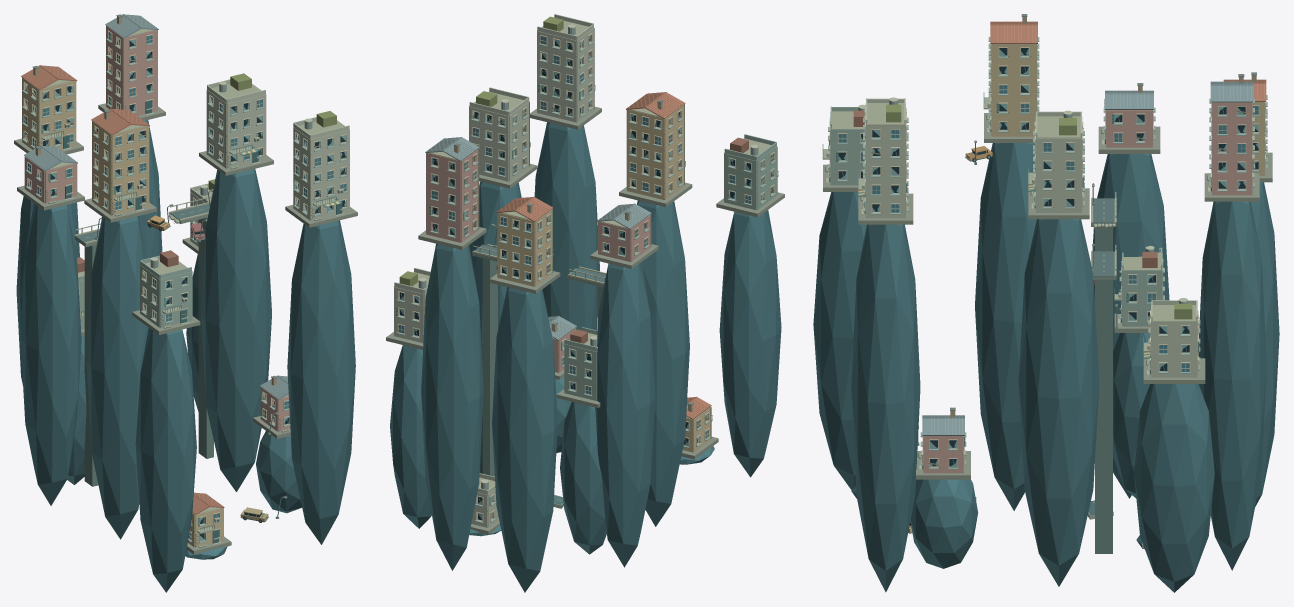
Rendered from neighborhood.glb.
The picture shows the model from 3 angles, left to right: view 1: azimuth 30°, elevation 25°; view 2: azimuth 150°, elevation 25°; view 3: azimuth 270°, elevation 25°; orthographic projection. The views are drawn at different scales.
Parts seen in each view (by area): view 1: neighborhood; view 2: neighborhood; view 3: neighborhood.
Part boxes in pixels (x1=…): neighborhood: x1=14, y1=14, x2=357, y2=592; neighborhood: x1=386, y1=14, x2=784, y2=592; neighborhood: x1=813, y1=14, x2=1279, y2=592.
Bounding box in the file's own units: 49 × 84.51 × 72.7.
